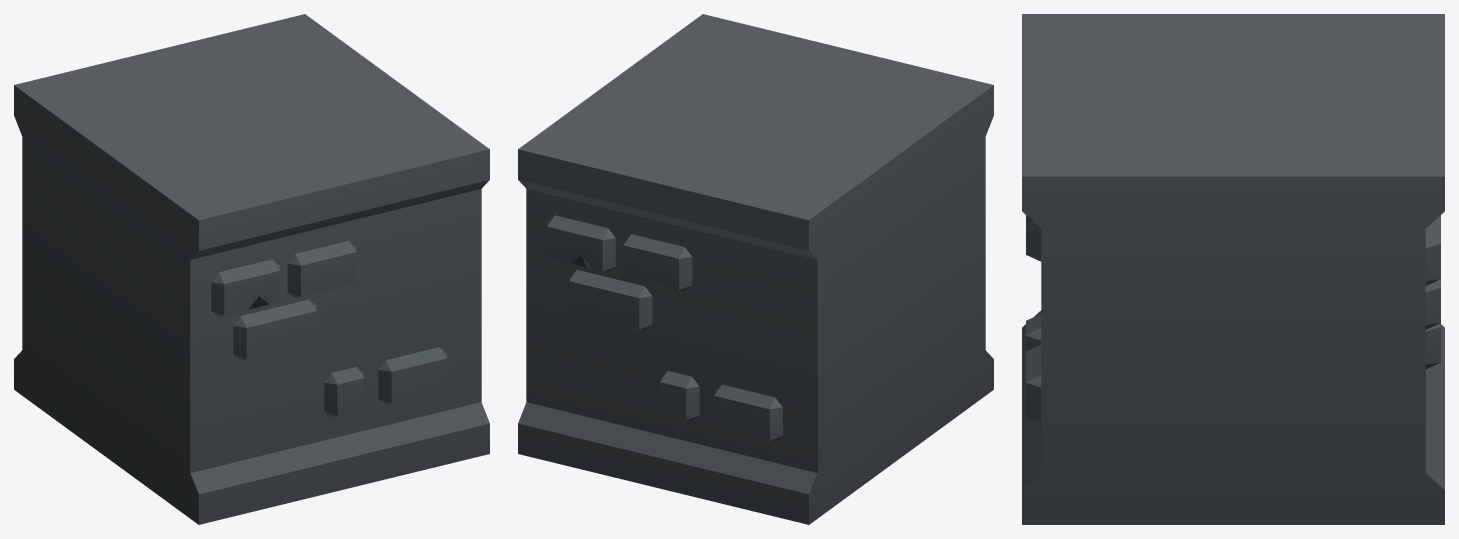
The model's file is floor_foundation_front_and_back.obj.
The picture shows the model from 3 angles, left to right: view 1: azimuth 30°, elevation 25°; view 2: azimuth 150°, elevation 25°; view 3: azimuth 270°, elevation 25°; orthographic projection. The views are drawn at different scales.
Visible parts, largest first — view 1: floor_foundation_front_and_back; view 2: floor_foundation_front_and_back; view 3: floor_foundation_front_and_back.
Boxes of the visible parts, <box> form: floor_foundation_front_and_back: <box>14,14,489,524</box>; floor_foundation_front_and_back: <box>518,14,993,524</box>; floor_foundation_front_and_back: <box>1022,14,1444,524</box>.
Bounding box in the file's own units: 2 × 2 × 2.2.
Materials: 1 (1 with a texture image).
